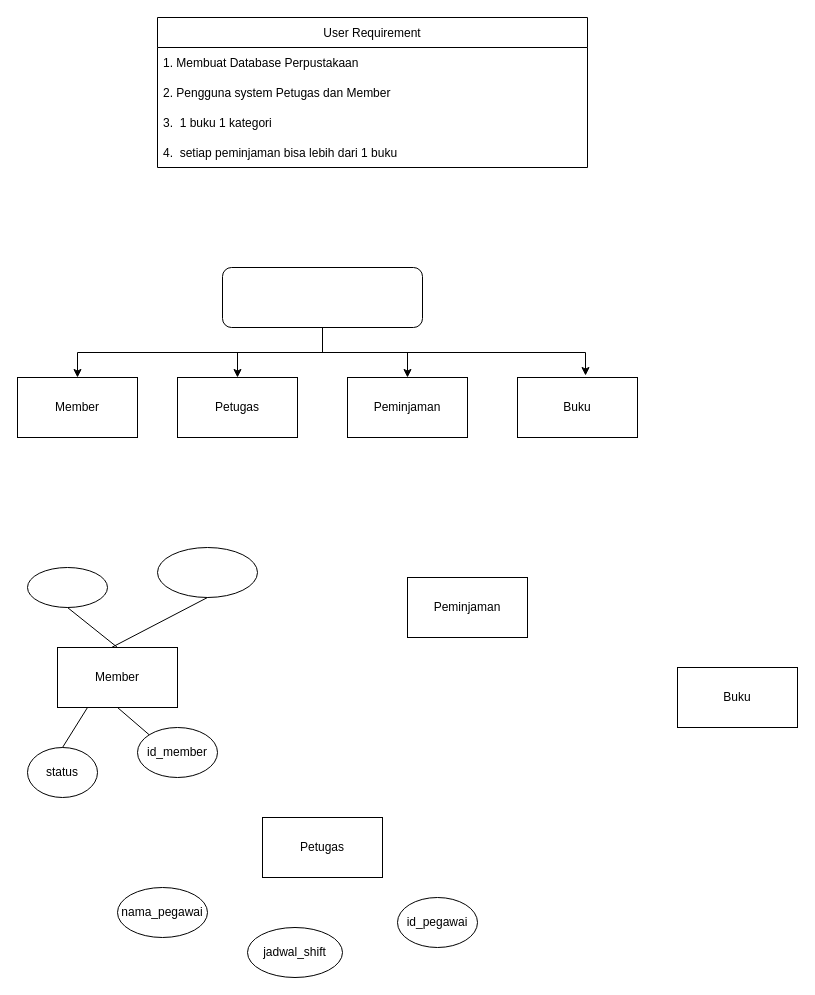
Image size: 815x995. Some labels were removed from this diagram. Each missing label, with the centre of its shape:
alamat: (x=67, y=587)
nama_member: (x=207, y=572)
Perpustakaan: (x=322, y=297)
